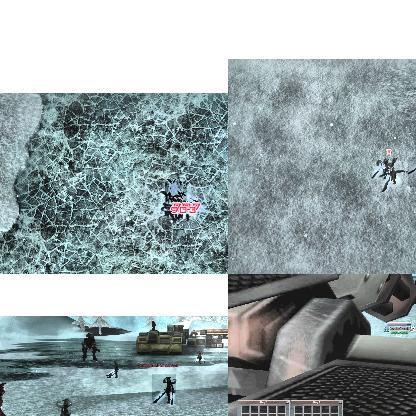caliana: (152, 374, 176, 404), (56, 398, 90, 416), (165, 181, 187, 201), (370, 158, 390, 180), (408, 157, 416, 187), (106, 360, 119, 376), (196, 350, 206, 362)
